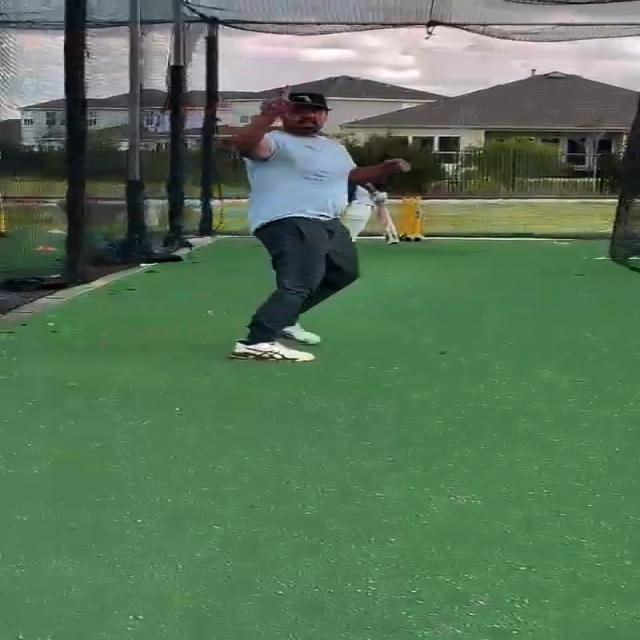batsman: (340, 181, 405, 246)
